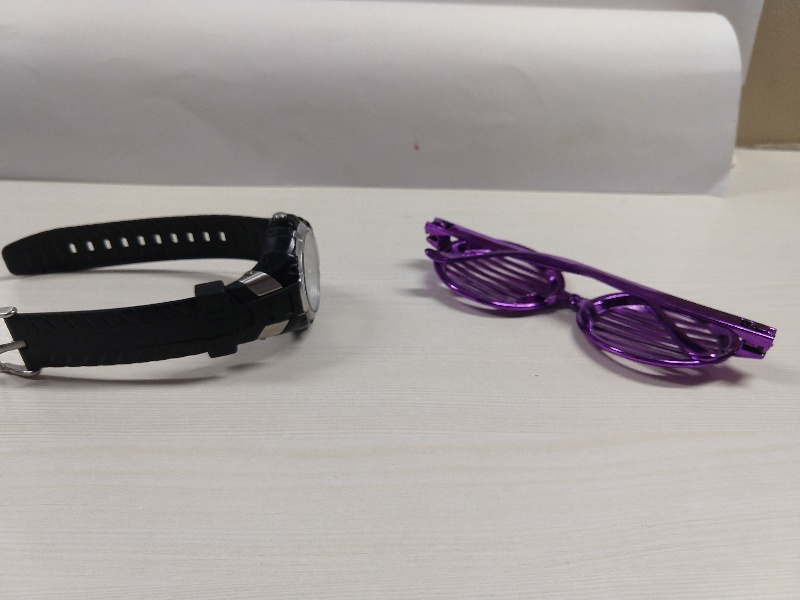shades: (418, 209, 776, 381)
watch: (1, 206, 322, 378)
